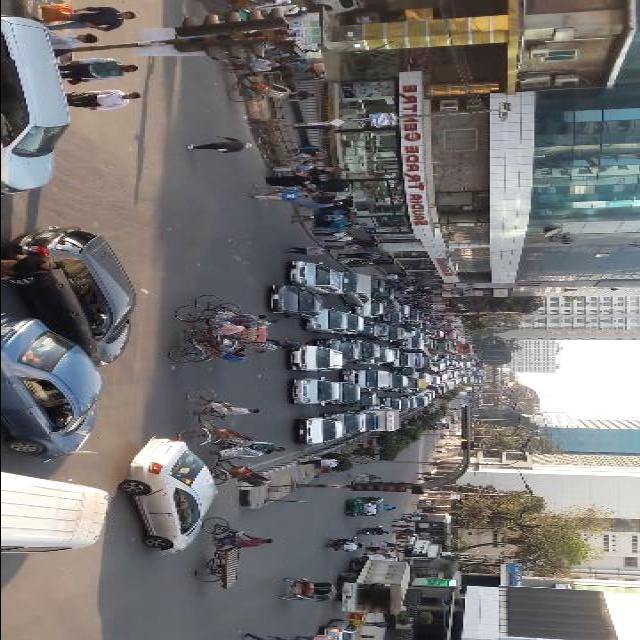bus: (432, 342, 457, 355), (442, 330, 460, 343), (408, 379, 428, 390)
car: (9, 224, 137, 367), (5, 314, 100, 464), (7, 17, 73, 200), (124, 437, 218, 554), (272, 285, 324, 320), (292, 260, 344, 295), (290, 378, 342, 407), (290, 346, 345, 373), (294, 415, 342, 445), (304, 309, 348, 334), (323, 412, 362, 437), (329, 381, 361, 407), (330, 313, 364, 336), (354, 299, 384, 318), (344, 294, 372, 309), (380, 312, 402, 325), (380, 398, 402, 410), (398, 398, 408, 412), (424, 391, 436, 402), (432, 421, 444, 432), (412, 332, 424, 339), (440, 359, 450, 365)
motorcycle: (194, 518, 274, 591), (170, 306, 250, 364), (182, 387, 258, 447), (196, 295, 268, 344), (224, 57, 294, 103), (208, 445, 274, 489), (282, 577, 336, 604), (348, 499, 386, 518), (326, 538, 364, 552), (350, 324, 380, 338), (348, 392, 378, 406), (358, 526, 390, 537), (380, 301, 400, 315), (373, 288, 395, 300), (393, 367, 416, 375), (374, 280, 386, 293)
truck: (7, 475, 110, 554), (341, 556, 411, 617), (322, 273, 374, 296), (343, 369, 391, 392), (317, 340, 359, 365), (361, 410, 402, 433), (358, 348, 398, 366), (347, 341, 382, 361), (371, 326, 409, 342), (387, 354, 425, 369), (380, 373, 410, 392), (398, 310, 424, 325), (368, 321, 390, 337), (402, 338, 425, 352), (408, 397, 431, 410), (414, 373, 434, 383), (430, 331, 446, 340), (427, 378, 441, 387), (424, 357, 430, 370), (438, 375, 448, 382), (444, 420, 450, 431), (448, 383, 457, 390), (437, 363, 443, 371)
